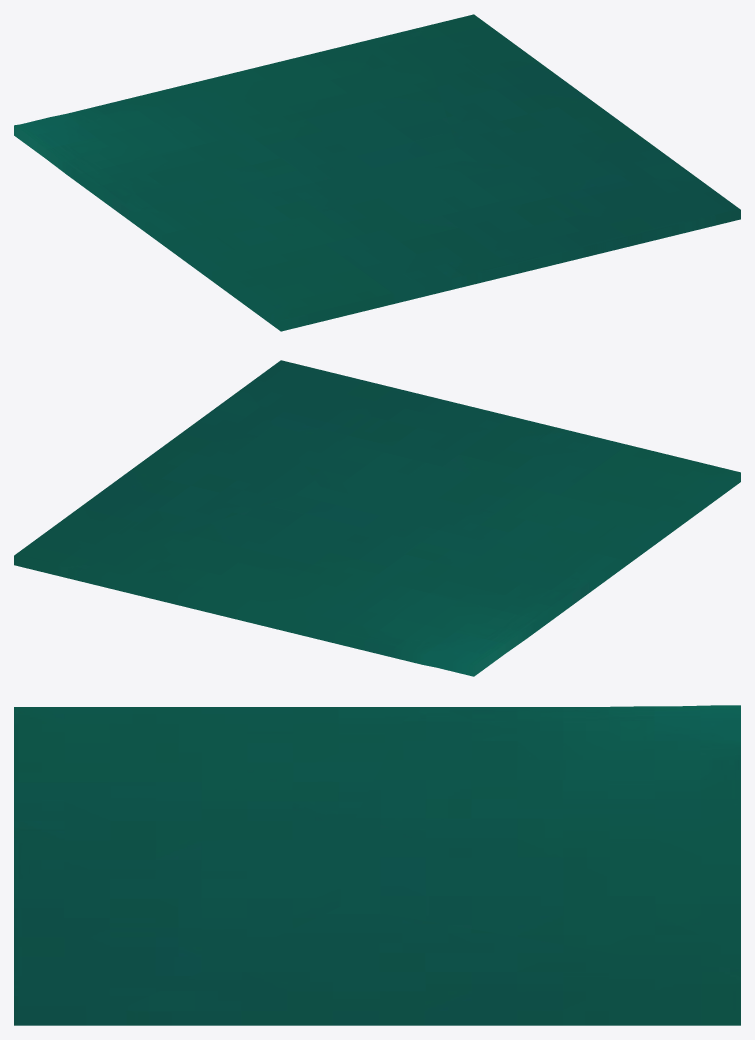
The model's file is z16-10473-25322-h0-yup-uvflip-v3-world.glb.
The picture shows the model from 3 angles, top to bottom: view 1: azimuth 30°, elevation 25°; view 2: azimuth 150°, elevation 25°; view 3: azimuth 270°, elevation 25°; orthographic projection. The views are drawn at different scales.
Bounding box in the file's own units: 483 × 10.88 × 485.
1 material, 1 textured.
